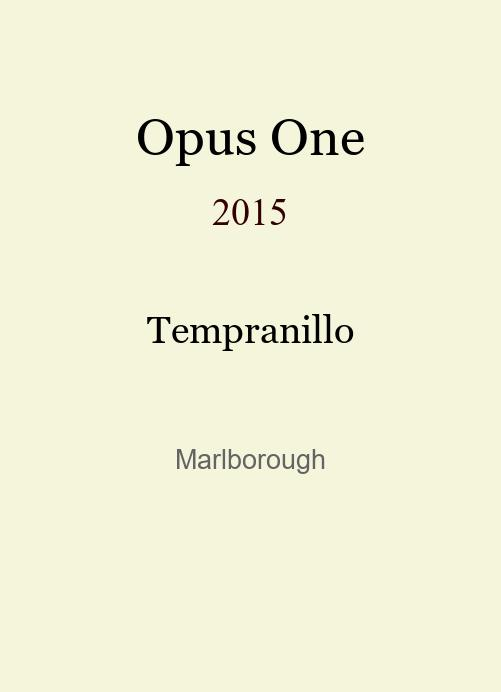brand: (136, 107, 365, 154)
region: (175, 444, 326, 469)
variety: (147, 308, 354, 345)
vintage: (212, 191, 288, 217)
